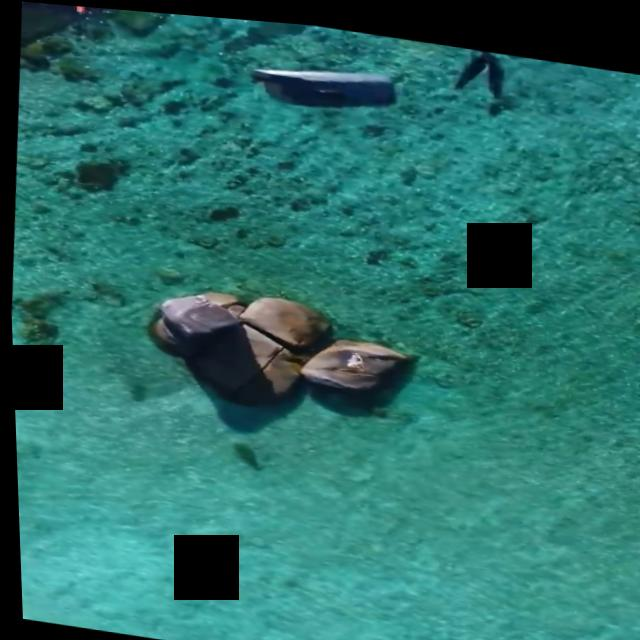Vehicle: (234, 38, 419, 124)
